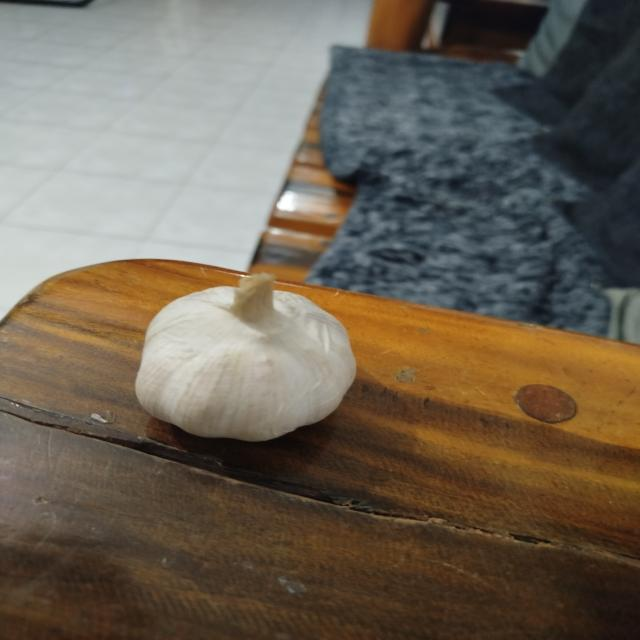garlic: (134, 272, 357, 442)
